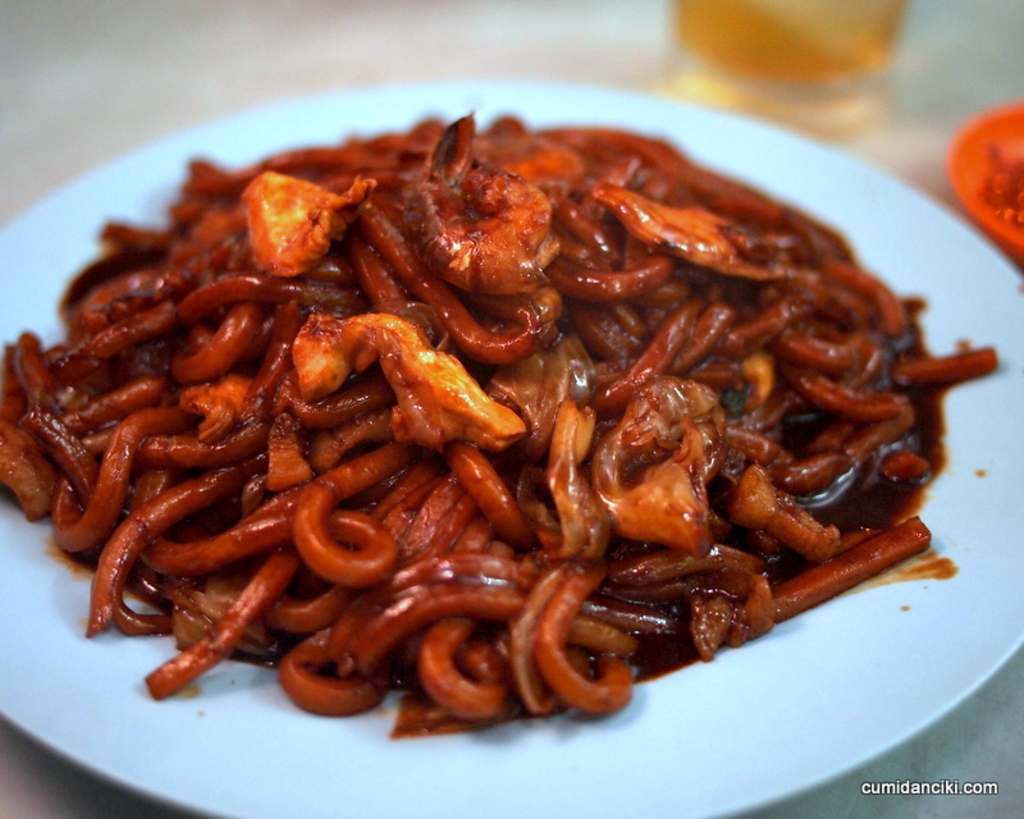pasta: (0, 107, 995, 719)
